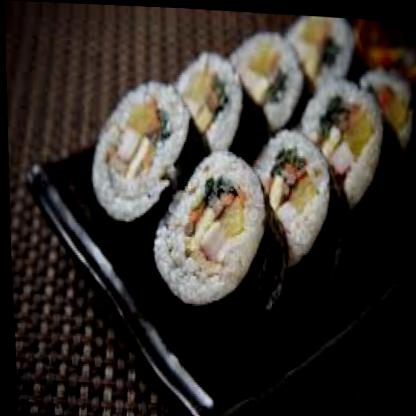rice: (83, 2, 415, 299)
